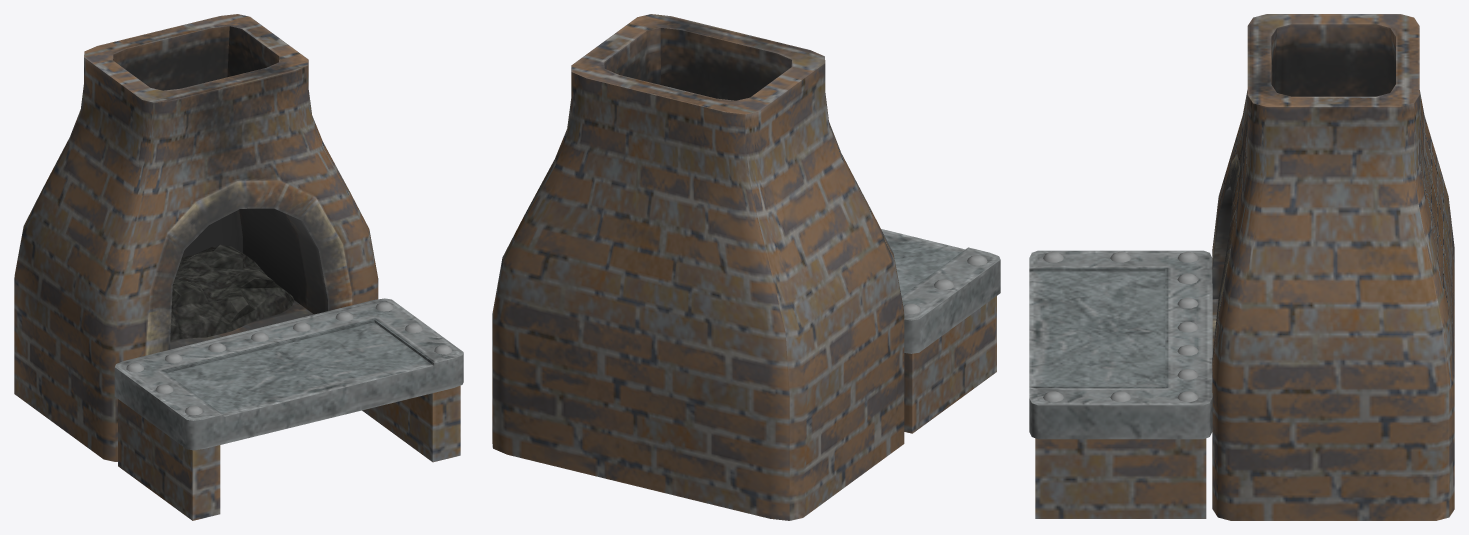
File: sb_obj_indoor012_BlackSmith01.fbx
3 renders of one model, left to right at view 1: azimuth 30°, elevation 25°; view 2: azimuth 150°, elevation 25°; view 3: azimuth 270°, elevation 25°, orthographic. The views are drawn at different scales.
Visible parts, largest first — view 1: sb_obj_indoor012_BlackSmith01; view 2: sb_obj_indoor012_BlackSmith01; view 3: sb_obj_indoor012_BlackSmith01.
Boxes of the visible parts, x1,y1,x2,y2 form: sb_obj_indoor012_BlackSmith01: (14, 14, 463, 520); sb_obj_indoor012_BlackSmith01: (492, 14, 1000, 520); sb_obj_indoor012_BlackSmith01: (1029, 14, 1454, 520).
Size of the model in its own units: 1.57 by 1.81 by 1.82.
